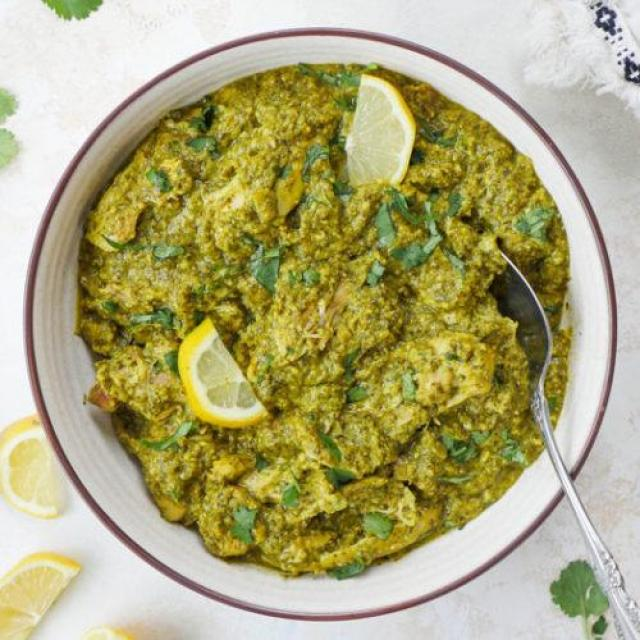chicken: (58, 62, 578, 560)
